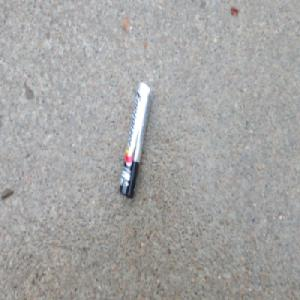Battery: (118, 80, 151, 199)
